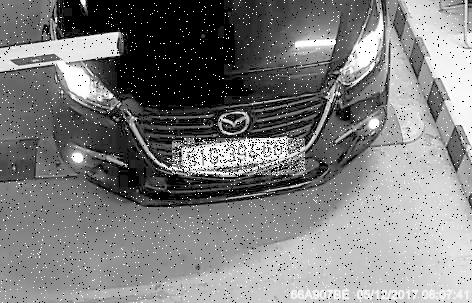License-plate: (173, 140, 306, 178)
